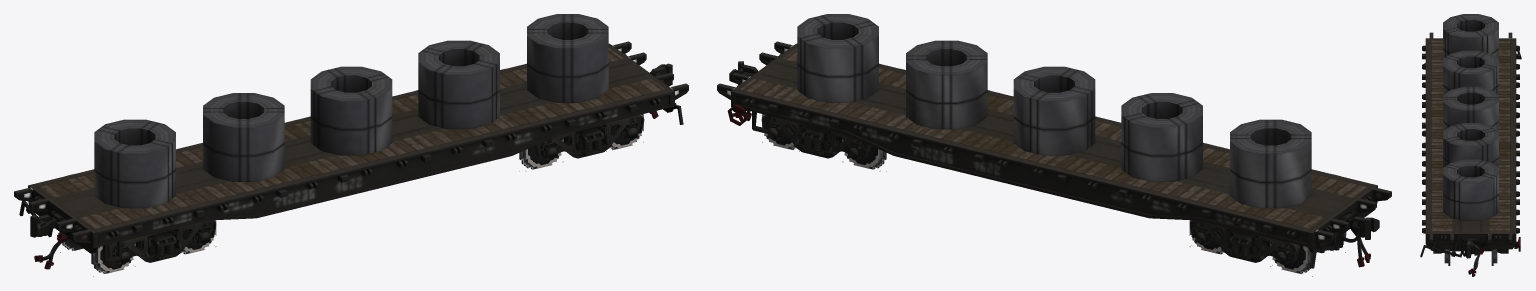
Rendered from mvp_ir_steelflat.obj.
The picture shows the model from 3 angles, left to right: view 1: azimuth 30°, elevation 25°; view 2: azimuth 150°, elevation 25°; view 3: azimuth 270°, elevation 25°; orthographic projection. The views are drawn at different scales.
Parts seen in each view (by area): view 1: FRAME_steelflat, CARGO_FILL_20, CARGO_FILL_40, CARGO_FILL_60, CARGO_FILL_1, CARGO_FILL_80, BOGEY_REAR_steelflat, BOGEY_FRONT_steelflat, BOGEY_FRONT_WHEEL_1_steelflat, BOGEY_REAR_WHEEL_1_steelflat; view 2: FRAME_steelflat, CARGO_FILL_20, CARGO_FILL_40, CARGO_FILL_60, CARGO_FILL_1, CARGO_FILL_80, BOGEY_FRONT_steelflat, BOGEY_REAR_steelflat, BOGEY_FRONT_WHEEL_1_steelflat, BOGEY_REAR_WHEEL_1_steelflat; view 3: FRAME_steelflat, CARGO_FILL_1, CARGO_FILL_40, CARGO_FILL_60, CARGO_FILL_20, CARGO_FILL_80, BOGEY_REAR_WHEEL_2_steelflat, COUPLER_ENGAGED_REAR_2_TOGGLE_mvp_boardcargoflat, BOGEY_REAR_steelflat, COUPLED_REAR_1_HIDE_INVERT.
Boxes of the visible parts, x1,y1,x2,y2 form: FRAME_steelflat: (14,41,688,262); CARGO_FILL_20: (310,66,392,155); CARGO_FILL_40: (94,119,175,208); CARGO_FILL_60: (418,40,499,129); CARGO_FILL_1: (527,14,608,102); CARGO_FILL_80: (203,93,284,181); BOGEY_REAR_steelflat: (534,115,644,160); BOGEY_FRONT_steelflat: (107,220,216,264); BOGEY_FRONT_WHEEL_1_steelflat: (60,233,135,276); BOGEY_REAR_WHEEL_1_steelflat: (519,138,563,171); FRAME_steelflat: (717,41,1391,253); CARGO_FILL_20: (1013,66,1095,155); CARGO_FILL_40: (1230,119,1311,208); CARGO_FILL_60: (906,40,987,129); CARGO_FILL_1: (797,14,878,102); CARGO_FILL_80: (1121,93,1202,181); BOGEY_FRONT_steelflat: (1189,220,1299,264); BOGEY_REAR_steelflat: (761,115,871,160); BOGEY_FRONT_WHEEL_1_steelflat: (1270,232,1346,276); BOGEY_REAR_WHEEL_1_steelflat: (842,138,886,171); FRAME_steelflat: (1422,32,1520,258); CARGO_FILL_1: (1443,159,1498,220); CARGO_FILL_40: (1443,14,1498,58); CARGO_FILL_60: (1443,123,1498,167); CARGO_FILL_20: (1443,86,1498,131); CARGO_FILL_80: (1443,50,1498,94); BOGEY_REAR_WHEEL_2_steelflat: (1443,249,1498,265); COUPLER_ENGAGED_REAR_2_TOGGLE_mvp_boardcargoflat: (1420,245,1462,257); BOGEY_REAR_steelflat: (1433,249,1508,253); COUPLED_REAR_1_HIDE_INVERT: (1468,255,1479,274).
Bounding box in the file's own units: 16.88 × 2.88 × 3.37.
